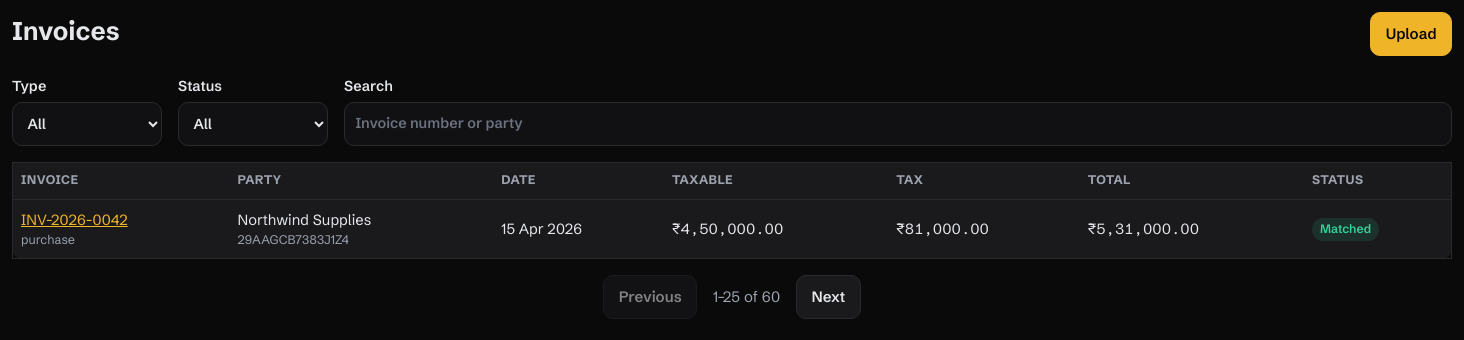
Test: InvoicesPage › accessibility furniture › announces the range after paging
The width and height of the screenshot is (1464, 340).
Check: the link "INV-2026-0042" is shown, box [21, 211, 128, 229]
Check: the message reads "1–25 of 60", box [713, 286, 780, 309]
Click the button "Next": (828, 297) [796, 275, 861, 319]
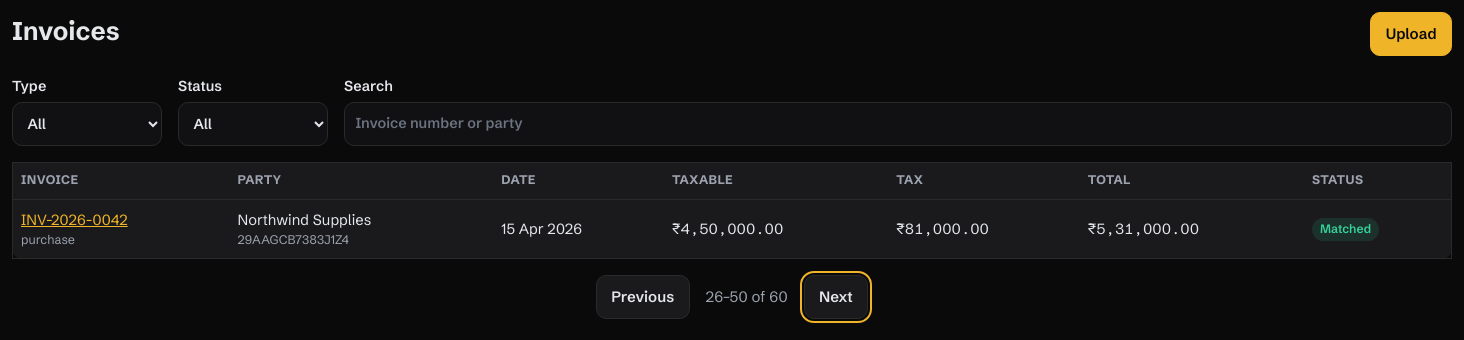
Check: the message reads "26–50 of 60", box [706, 286, 788, 309]
